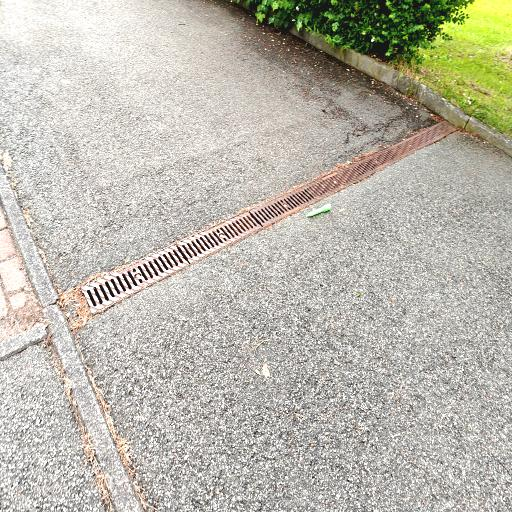Probe-Detection: (307, 204, 331, 217)
